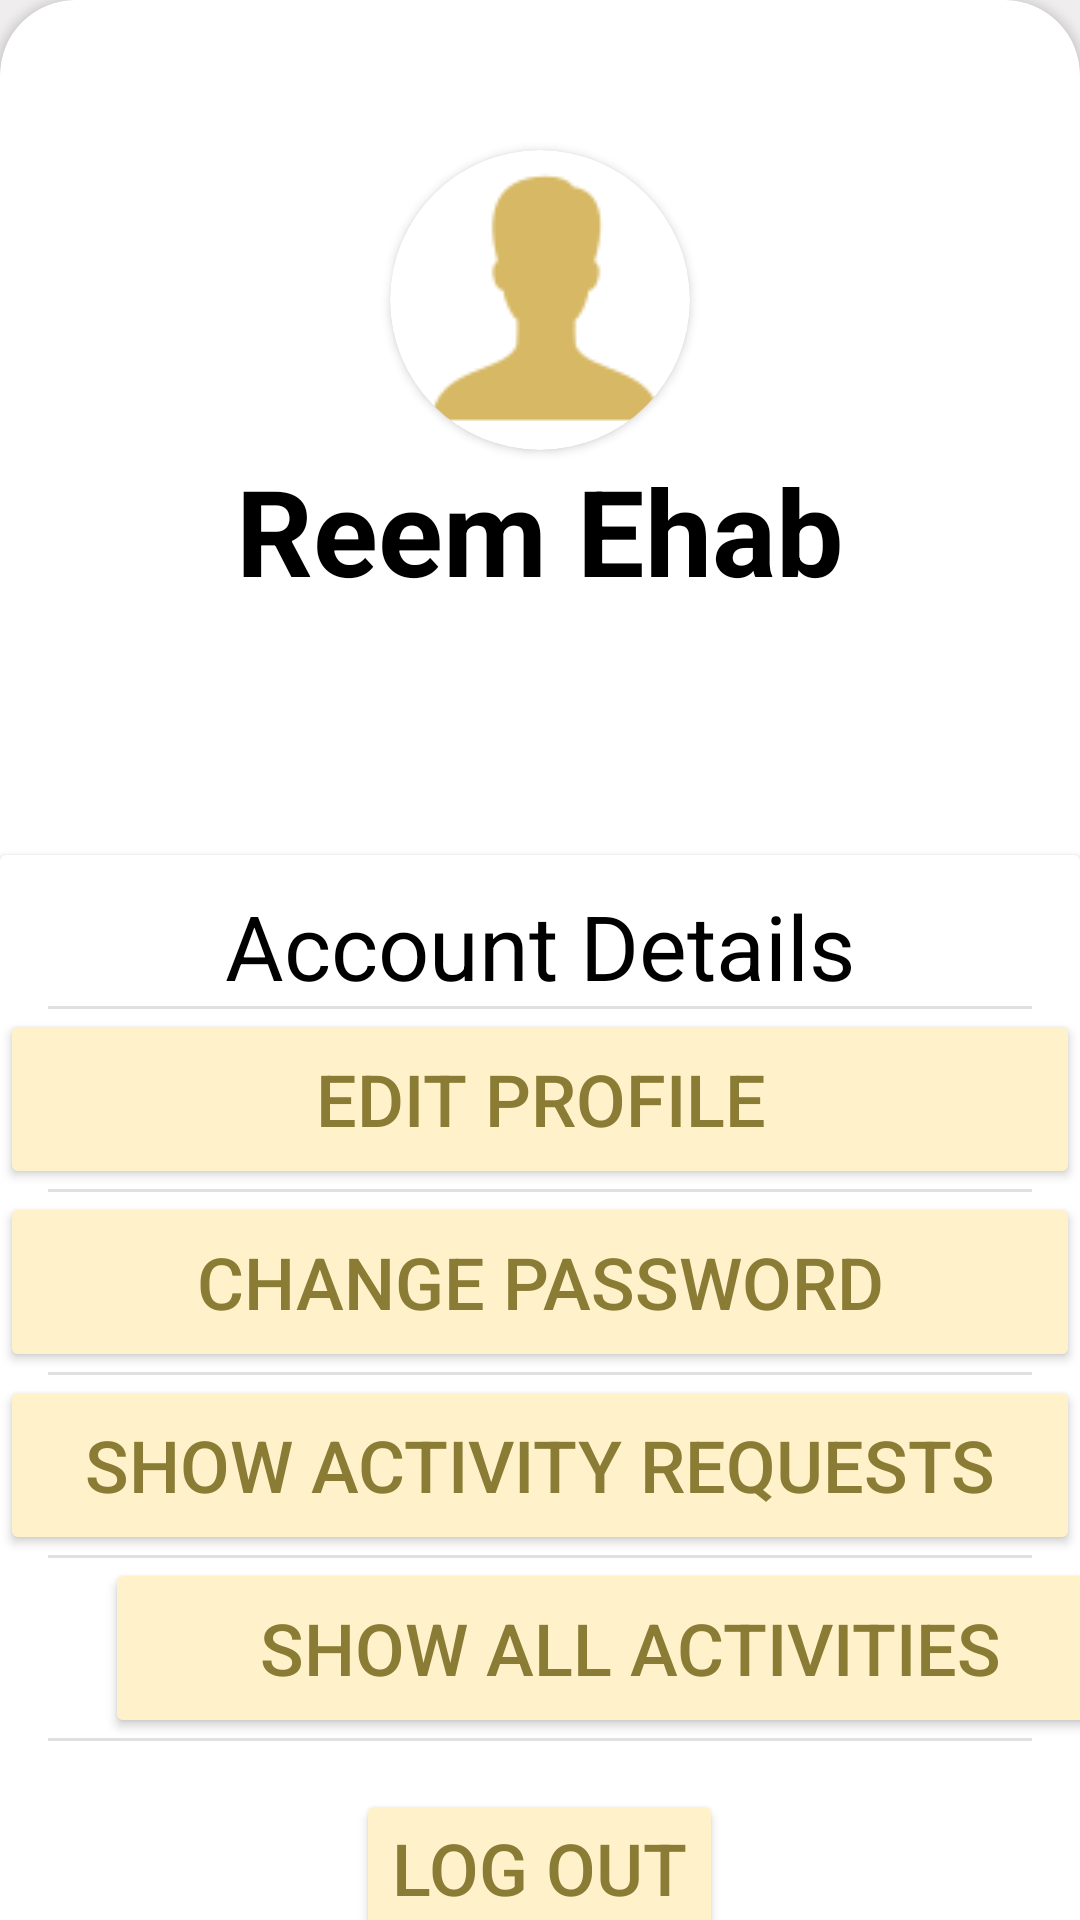

Named icons in this screenshot (1080x1920) and their centers, point (x, y):
profile: point (540, 312)
